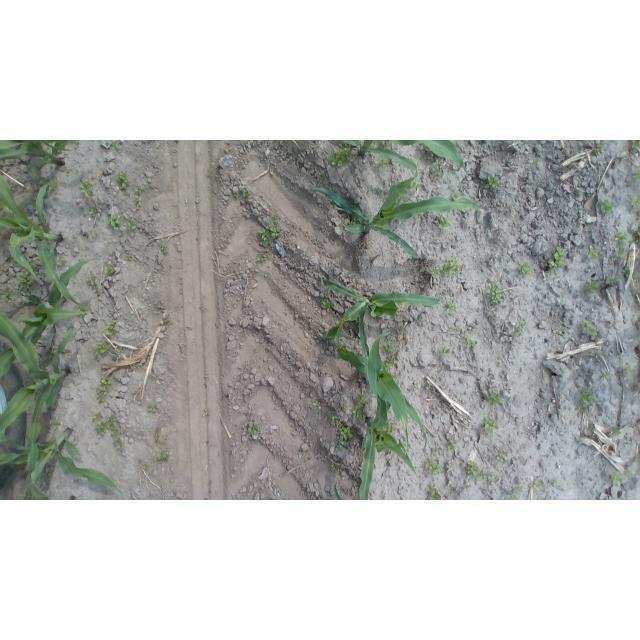Maize: (309, 172, 484, 259), (1, 312, 80, 484), (1, 257, 100, 379), (334, 333, 427, 452), (0, 172, 82, 306), (318, 270, 442, 351), (1, 428, 124, 501), (356, 376, 420, 500), (339, 141, 464, 171), (1, 141, 80, 172), (29, 484, 51, 501), (108, 140, 122, 158), (334, 484, 344, 501), (68, 496, 76, 501)
Weeds: (463, 461, 487, 491), (257, 221, 281, 248), (548, 247, 568, 275), (19, 273, 37, 304), (95, 416, 120, 438), (609, 466, 635, 486), (578, 389, 595, 418), (335, 425, 353, 452), (328, 147, 351, 167), (34, 172, 58, 191), (439, 256, 461, 276), (97, 375, 112, 404), (399, 181, 419, 201), (485, 282, 503, 304), (615, 229, 640, 244), (371, 154, 390, 173), (581, 319, 599, 337), (423, 460, 443, 475), (94, 341, 112, 357), (321, 294, 336, 313), (117, 172, 130, 193), (508, 484, 525, 500), (484, 174, 501, 190), (81, 179, 96, 197), (516, 260, 532, 276), (489, 389, 505, 405), (599, 198, 614, 215), (427, 484, 442, 501), (622, 265, 640, 279), (485, 416, 499, 434), (352, 401, 365, 420), (0, 289, 16, 304), (439, 214, 452, 232), (109, 216, 123, 232), (432, 159, 446, 175), (585, 280, 599, 294), (247, 421, 260, 436), (465, 333, 477, 349), (420, 268, 441, 277), (613, 247, 628, 259), (629, 195, 640, 211), (605, 276, 622, 286), (588, 247, 601, 260), (104, 264, 117, 277), (384, 420, 396, 434), (623, 365, 637, 377), (104, 322, 116, 336), (156, 452, 170, 464), (88, 273, 99, 288), (112, 438, 124, 451), (357, 391, 369, 404), (25, 263, 39, 273), (386, 355, 396, 369), (383, 342, 395, 353), (446, 441, 458, 452), (516, 322, 526, 335), (41, 469, 52, 480), (440, 347, 451, 358), (532, 479, 543, 490), (630, 140, 640, 152), (595, 143, 605, 155), (446, 301, 456, 313), (126, 219, 136, 231), (609, 426, 621, 436), (116, 346, 125, 359), (21, 489, 32, 499), (313, 401, 324, 411), (419, 144, 431, 153), (497, 452, 508, 461), (78, 307, 89, 316), (329, 413, 340, 422), (56, 258, 67, 267), (53, 417, 60, 430), (552, 478, 561, 488), (351, 217, 361, 226), (161, 317, 171, 326), (90, 206, 99, 216), (601, 373, 611, 382), (257, 254, 268, 262), (90, 231, 102, 238), (633, 168, 640, 180), (452, 325, 461, 334), (126, 253, 136, 261), (488, 472, 498, 480), (135, 197, 143, 206), (148, 404, 157, 412), (160, 247, 168, 256), (435, 446, 444, 454), (453, 191, 462, 199), (241, 190, 250, 198), (134, 186, 143, 194), (297, 448, 308, 454), (339, 402, 347, 410), (553, 329, 562, 336), (203, 408, 210, 417), (331, 200, 338, 208), (320, 170, 328, 177), (411, 383, 418, 391), (440, 291, 449, 297), (377, 187, 384, 194), (331, 465, 338, 472), (426, 384, 432, 390), (637, 383, 640, 389)
